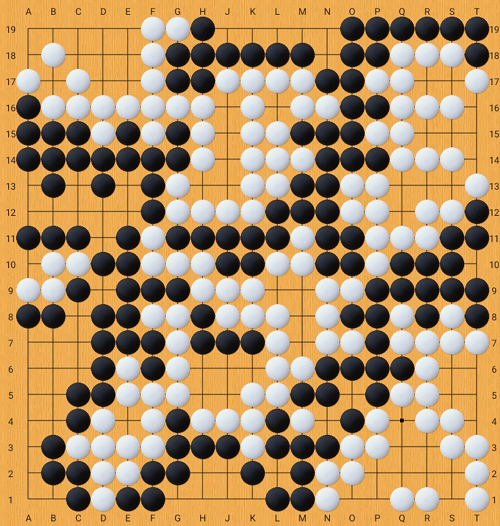black: (366, 273, 388, 295), (166, 402, 188, 424), (366, 144, 388, 166), (366, 93, 388, 115), (366, 41, 388, 63), (366, 16, 388, 38), (166, 144, 188, 166), (166, 119, 188, 141), (166, 67, 188, 89), (166, 41, 188, 63), (166, 222, 188, 244), (166, 273, 188, 295), (116, 222, 138, 244), (266, 480, 288, 502), (441, 16, 463, 38), (441, 222, 463, 244), (241, 222, 263, 244), (41, 428, 63, 450), (241, 41, 263, 63), (41, 119, 63, 141), (41, 144, 63, 166), (41, 170, 63, 192), (41, 222, 63, 244), (291, 454, 313, 476), (291, 480, 313, 502), (291, 376, 313, 398), (291, 428, 313, 450), (316, 119, 338, 141), (316, 170, 338, 192), (316, 144, 338, 166), (316, 67, 338, 89), (316, 222, 338, 244), (316, 196, 338, 218), (441, 248, 463, 270), (441, 273, 463, 295), (391, 248, 413, 270), (391, 273, 413, 295), (391, 351, 413, 373), (116, 119, 138, 141), (116, 144, 138, 166), (316, 351, 338, 373), (391, 16, 413, 38), (141, 144, 163, 166), (191, 299, 213, 321), (191, 325, 213, 347), (191, 428, 213, 450), (141, 454, 163, 476), (141, 480, 163, 502), (141, 325, 163, 347), (141, 273, 163, 295), (141, 351, 163, 373), (341, 299, 363, 321), (341, 248, 363, 270), (191, 222, 213, 244), (341, 402, 363, 424), (341, 351, 363, 373), (191, 41, 213, 63), (191, 67, 213, 89), (191, 16, 213, 38), (91, 351, 113, 373), (91, 376, 113, 398), (466, 222, 488, 244), (466, 196, 488, 218), (266, 428, 288, 450), (266, 402, 288, 424), (91, 299, 113, 321), (91, 325, 113, 347), (466, 41, 488, 63), (466, 16, 488, 38), (266, 41, 288, 63), (41, 299, 63, 321), (266, 222, 288, 244), (266, 196, 288, 218), (41, 454, 63, 476), (466, 299, 488, 321), (466, 273, 488, 295), (66, 222, 88, 244), (416, 273, 438, 295), (416, 248, 438, 270), (241, 454, 263, 476), (416, 299, 438, 321), (66, 144, 88, 166), (241, 248, 263, 270), (216, 428, 238, 450), (216, 248, 238, 270), (216, 325, 238, 347), (341, 222, 363, 244), (166, 454, 188, 476), (166, 428, 188, 450), (341, 16, 363, 38), (341, 41, 363, 63), (341, 67, 363, 89), (341, 93, 363, 115), (341, 119, 363, 141), (341, 144, 363, 166), (366, 376, 388, 398), (366, 351, 388, 373), (366, 325, 388, 347), (366, 299, 388, 321), (91, 248, 113, 270), (141, 170, 163, 192), (141, 196, 163, 218), (241, 325, 263, 347), (316, 248, 338, 270), (116, 480, 138, 502), (316, 376, 338, 398), (66, 119, 88, 141), (316, 428, 338, 450), (416, 16, 438, 38), (116, 273, 138, 295), (116, 248, 138, 270), (116, 325, 138, 347), (116, 299, 138, 321), (66, 480, 88, 502), (66, 454, 88, 476), (66, 273, 88, 295), (66, 402, 88, 424), (66, 376, 88, 398), (216, 222, 238, 244), (16, 299, 38, 321), (216, 41, 238, 63), (16, 119, 38, 141), (16, 93, 38, 115), (16, 144, 38, 166), (16, 222, 38, 244), (291, 170, 313, 192), (291, 119, 313, 141), (291, 41, 313, 63), (291, 196, 313, 218), (91, 144, 113, 166), (91, 170, 113, 192)
white: (90, 427, 114, 451), (365, 221, 389, 245), (365, 195, 389, 219), (365, 169, 389, 193), (365, 118, 389, 142), (365, 66, 389, 90), (165, 169, 189, 193), (165, 92, 189, 116), (165, 15, 189, 39), (165, 195, 189, 219), (165, 247, 189, 271), (440, 92, 464, 116), (440, 143, 464, 167), (440, 40, 464, 64), (140, 15, 164, 39), (90, 453, 114, 477), (440, 195, 464, 219), (115, 92, 139, 116), (240, 195, 264, 219), (240, 92, 264, 116), (240, 118, 264, 142), (240, 143, 264, 167), (240, 169, 264, 193), (240, 66, 264, 90), (40, 92, 64, 116), (40, 40, 64, 64), (265, 118, 289, 142), (290, 350, 314, 374), (290, 401, 314, 425), (290, 247, 314, 271), (315, 92, 339, 116), (440, 401, 464, 425), (440, 427, 464, 451), (440, 298, 464, 322), (440, 324, 464, 348), (390, 298, 414, 322), (390, 324, 414, 348), (390, 375, 414, 399), (390, 479, 414, 503), (390, 40, 414, 64), (390, 66, 414, 90), (390, 143, 414, 167), (390, 92, 414, 116), (390, 118, 414, 142), (190, 247, 214, 271), (190, 272, 214, 296), (390, 221, 414, 245), (190, 401, 214, 425), (140, 298, 164, 322), (140, 247, 164, 271), (140, 401, 164, 425), (140, 427, 164, 451), (140, 375, 164, 399), (340, 324, 364, 348), (190, 195, 214, 219), (340, 272, 364, 296), (340, 427, 364, 451), (340, 453, 364, 477), (190, 143, 214, 167), (190, 92, 214, 116), (190, 118, 214, 142), (265, 324, 289, 348), (265, 298, 289, 322), (90, 401, 114, 425), (265, 247, 289, 271), (265, 375, 289, 399), (265, 350, 289, 374), (465, 66, 489, 90), (465, 169, 489, 193), (90, 479, 114, 503), (265, 66, 289, 90), (265, 169, 289, 193), (265, 143, 289, 167), (40, 247, 64, 271), (40, 272, 64, 296), (465, 479, 489, 503), (465, 453, 489, 477), (465, 324, 489, 348), (465, 427, 489, 451), (415, 375, 439, 399), (415, 350, 439, 374), (415, 401, 439, 425), (415, 324, 439, 348), (65, 66, 89, 90), (240, 427, 264, 451), (240, 375, 264, 399), (240, 298, 264, 322), (240, 272, 264, 296), (215, 401, 239, 425), (215, 272, 239, 296), (215, 298, 239, 322), (340, 195, 364, 219), (240, 401, 264, 425), (415, 479, 439, 503), (165, 375, 189, 399), (165, 350, 189, 374), (165, 324, 189, 348), (165, 298, 189, 322), (340, 169, 364, 193), (365, 427, 389, 451), (365, 401, 389, 425), (140, 40, 164, 64), (140, 66, 164, 90), (140, 92, 164, 116), (140, 118, 164, 142), (365, 247, 389, 271), (140, 221, 164, 245), (315, 272, 339, 296), (315, 324, 339, 348), (315, 298, 339, 322), (315, 479, 339, 503), (315, 453, 339, 477), (65, 92, 89, 116), (115, 453, 139, 477), (415, 40, 439, 64), (415, 92, 439, 116), (415, 143, 439, 167), (415, 221, 439, 245), (415, 195, 439, 219), (115, 375, 139, 399), (115, 350, 139, 374), (115, 427, 139, 451), (65, 247, 89, 271), (65, 427, 89, 451), (215, 195, 239, 219), (15, 272, 39, 296), (215, 66, 239, 90), (15, 66, 39, 90), (290, 143, 314, 167), (290, 92, 314, 116), (290, 66, 314, 90), (290, 221, 314, 245), (90, 92, 114, 116), (90, 118, 114, 142)
